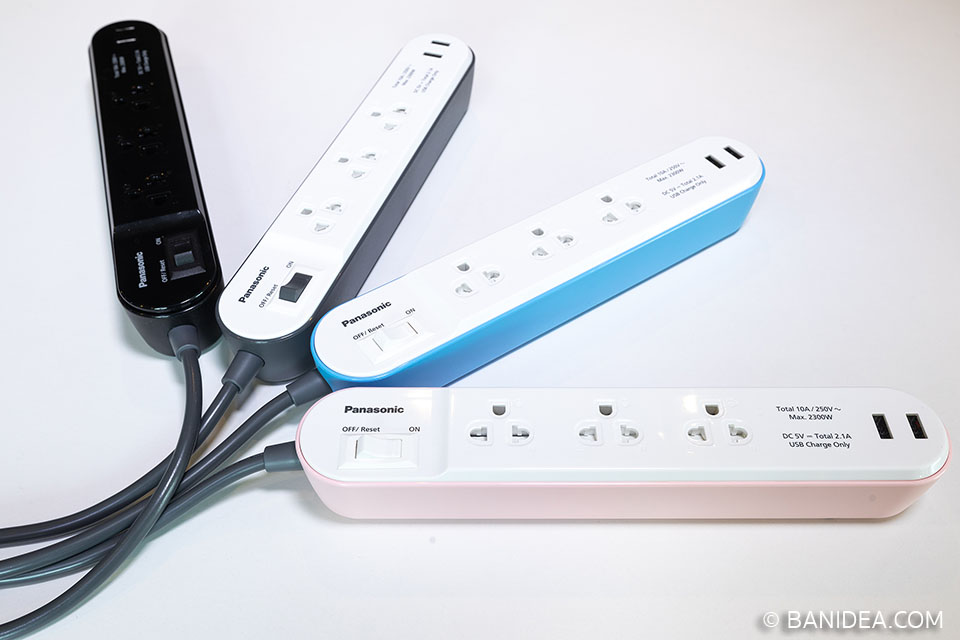Three_eye_plug: (303, 127, 768, 394), (286, 379, 956, 535), (206, 28, 484, 380), (79, 13, 231, 365)
